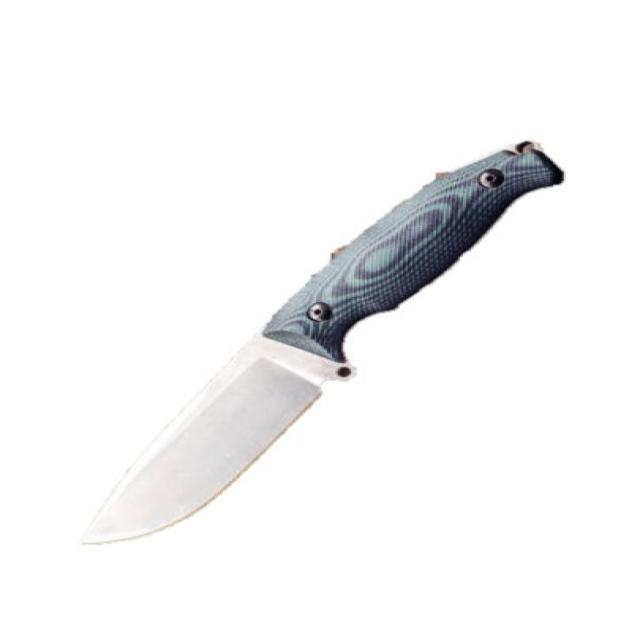knife: (70, 135, 575, 549)
